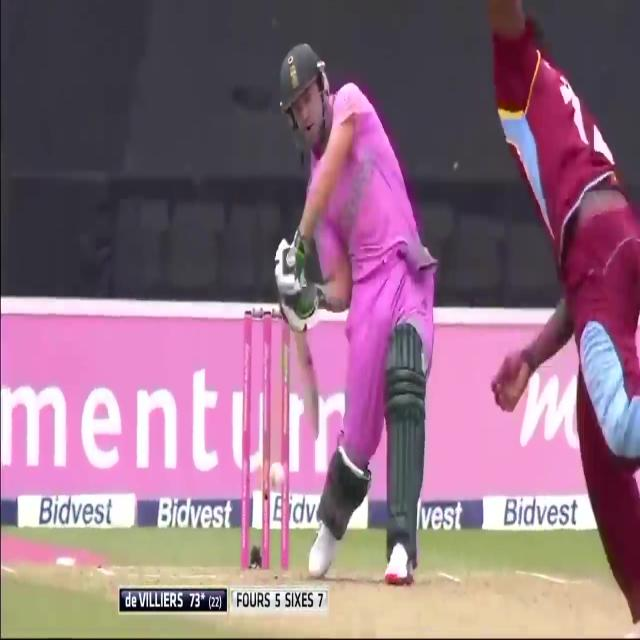Ball: (264, 11, 446, 597), (483, 0, 640, 606)
